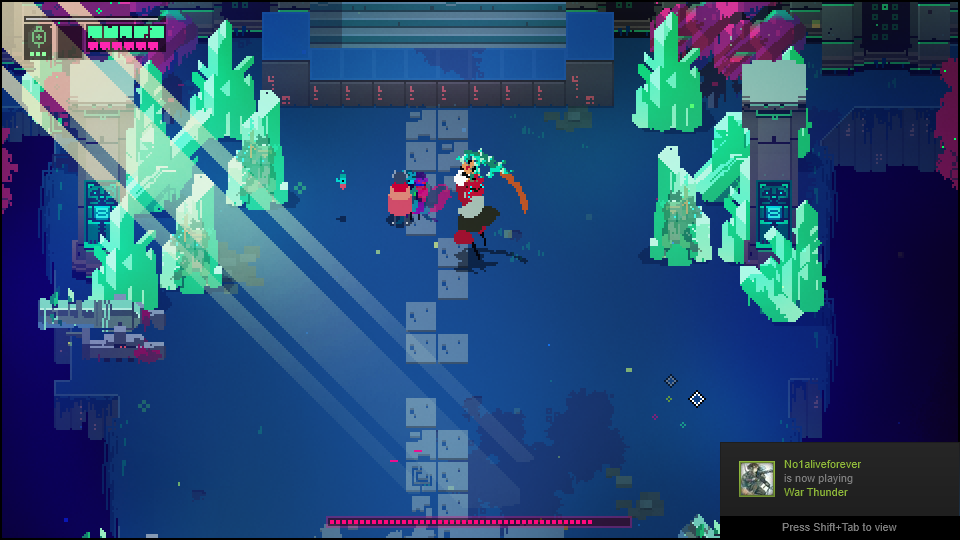hanged_man: (450, 148, 535, 282)
player: (387, 166, 412, 226)
